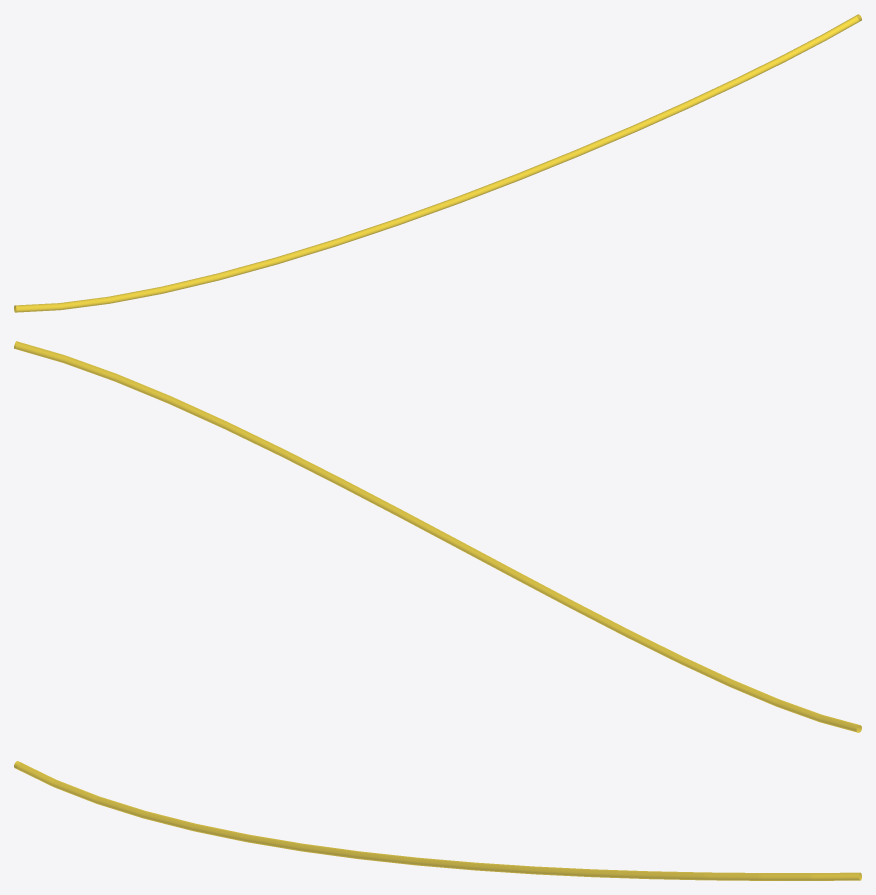
Rendered from Event_17758602_track_92.fbx.
3 views of the same model, one above another, from view 1: azimuth 30°, elevation 25°; view 2: azimuth 150°, elevation 25°; view 3: azimuth 330°, elevation 25° (orthographic). The views are drawn at different scales.
Visible parts, largest first — view 1: Model; view 2: Model; view 3: Model.
Part boxes in pixels (box(x1,y1,x2,y2)): Model: box(14, 14, 861, 312); Model: box(14, 341, 861, 732); Model: box(14, 761, 861, 880).
Bounding box in the file's own units: 5.14 × 0.8179 × 0.5782.
